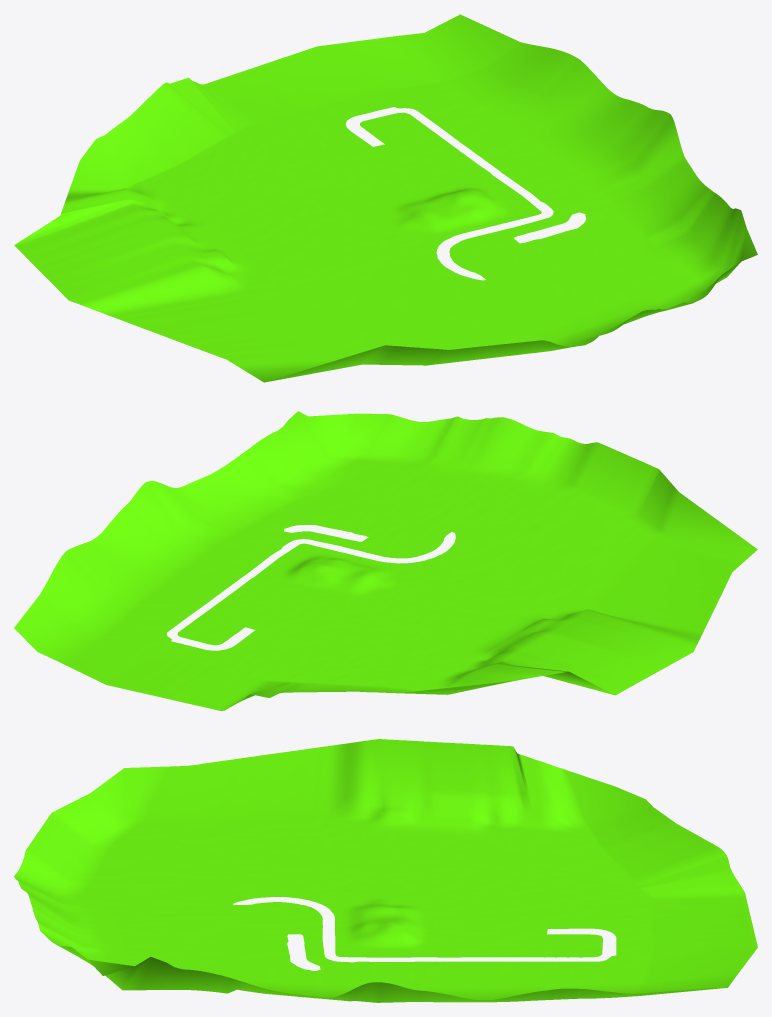
Rendered from green.obj.
3 renders of one model, top to bottom at view 1: azimuth 30°, elevation 25°; view 2: azimuth 150°, elevation 25°; view 3: azimuth 270°, elevation 25°, orthographic. The views are drawn at different scales.
Parts seen in each view (by area): view 1: Grass_Plane.003; view 2: Grass_Plane.003; view 3: Grass_Plane.003.
Part boxes in pixels (left/top/right/bottom): Grass_Plane.003: left=14, top=14, right=757, bottom=382; Grass_Plane.003: left=14, top=411, right=757, bottom=710; Grass_Plane.003: left=14, top=739, right=757, bottom=1002.
Bounding box in the file's own units: 292 × 23.09 × 327.
